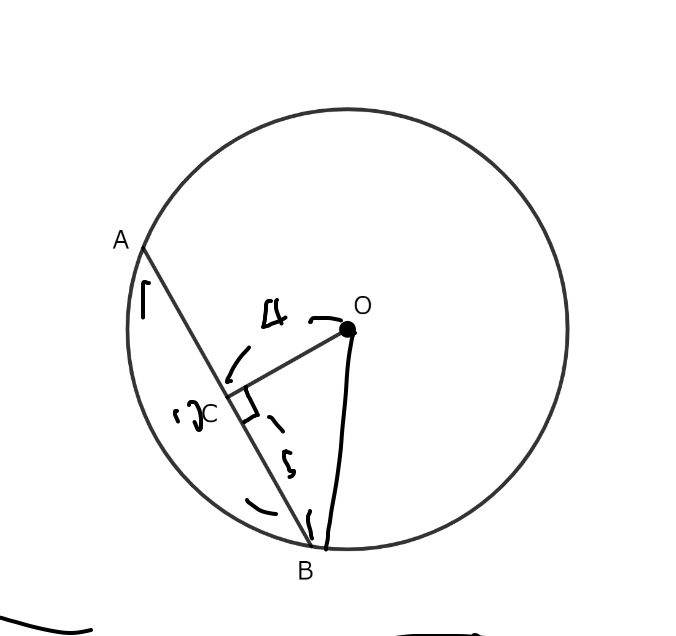Angle_Right: (234, 385, 260, 422)
